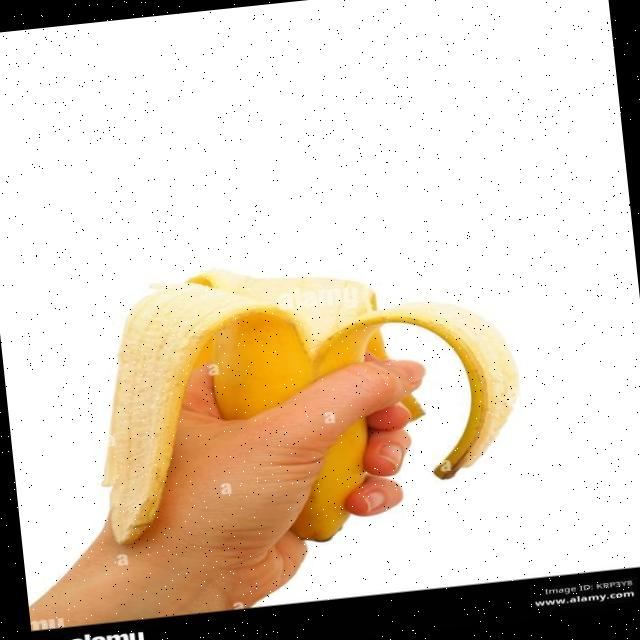banana-peel: (80, 236, 532, 564)
